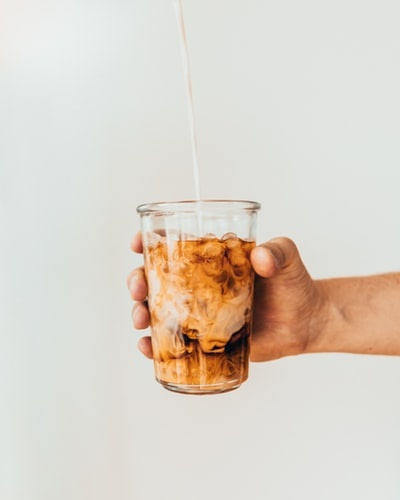whiskey: (142, 201, 264, 396)
